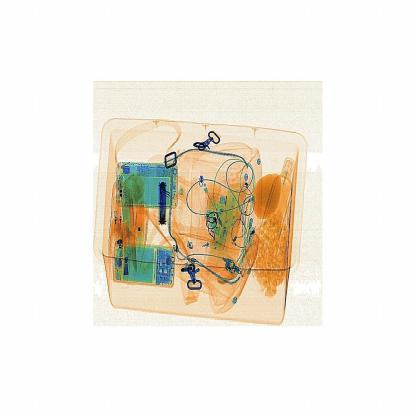scissors: (152, 176, 174, 230)
